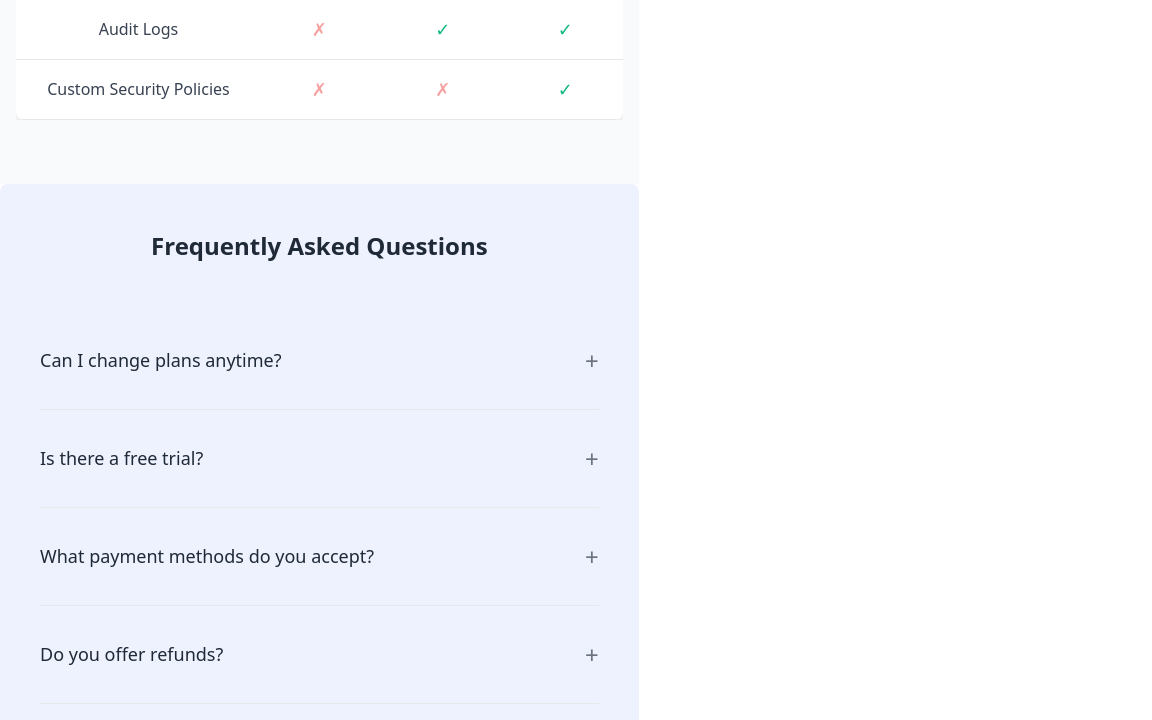
PricingPage › FAQ Section › should toggle FAQ answers
(page scrolled)
Click the button "Can I change plans anytime? +": (161, 360) [40,328,599,393]
(page scrolled)
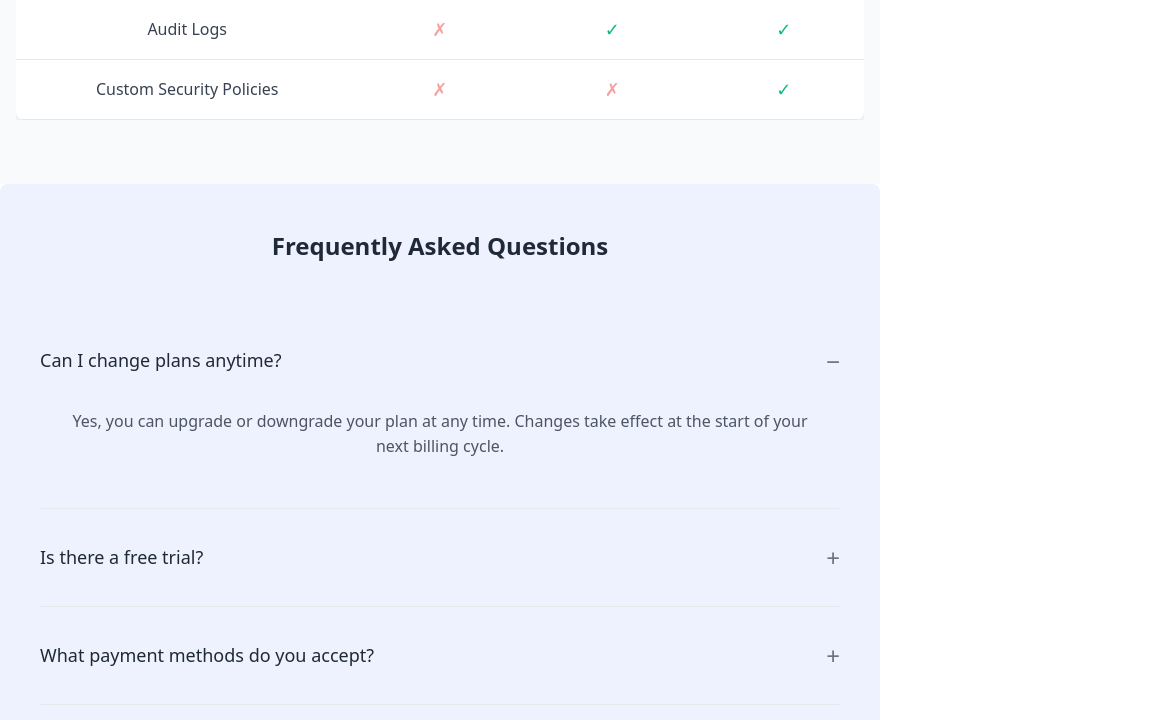
Result: the text "Yes, you can upgrade or downgrade" is shown at [72,410,808,457]
